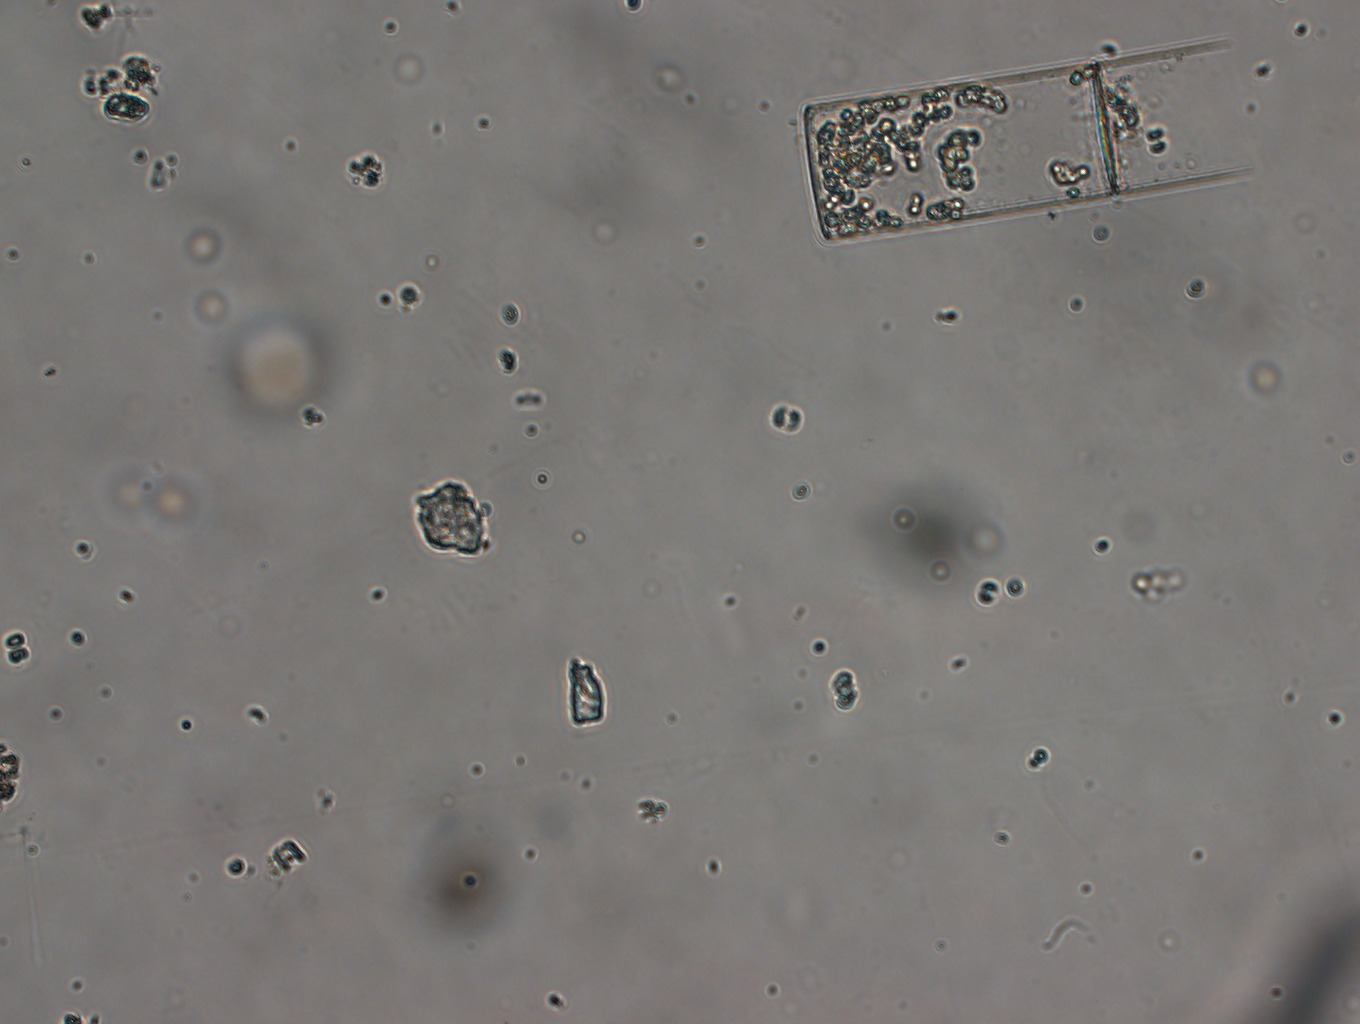guinardia flaccida: (802, 39, 1255, 243)
